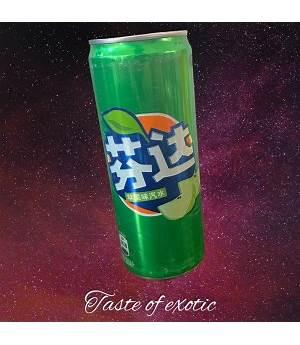metal: (90, 31, 204, 280)
